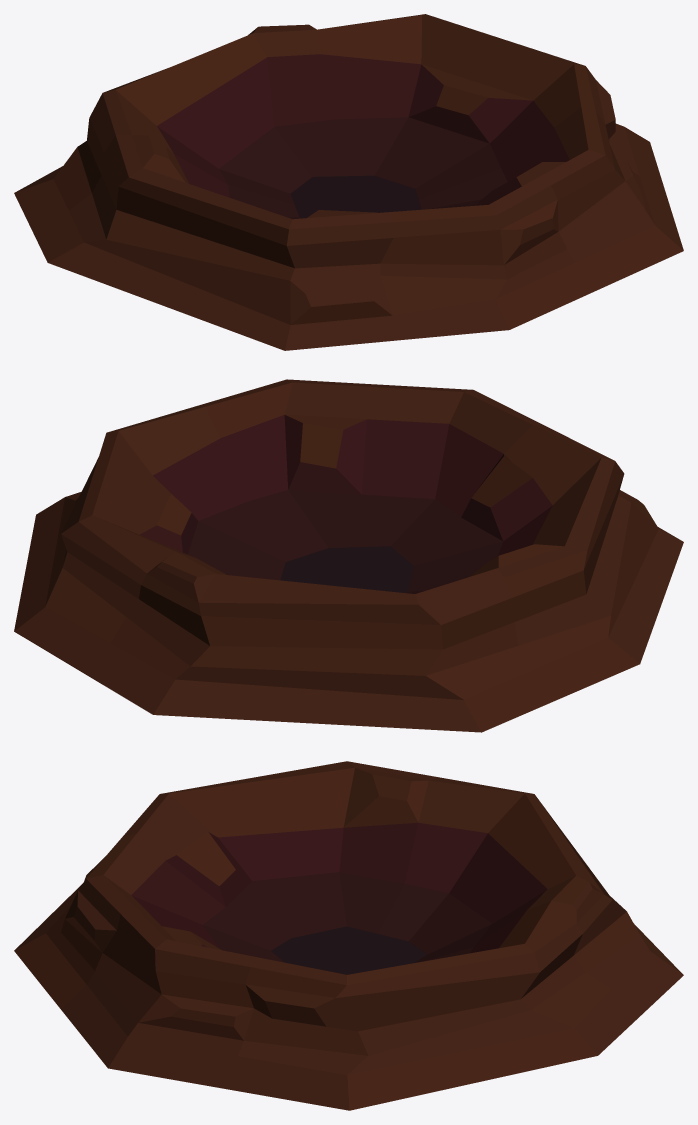
The model's file is SpawnPointDirtHole.fbx.
3 views of the same model, one above another, from view 1: azimuth 30°, elevation 25°; view 2: azimuth 150°, elevation 25°; view 3: azimuth 270°, elevation 25° (orthographic). The views are drawn at different scales.
Visible parts, largest first — view 1: Hole; view 2: Hole; view 3: Hole.
Boxes of the visible parts, bbox=[...] form: Hole: bbox=[14, 14, 683, 350]; Hole: bbox=[14, 379, 683, 732]; Hole: bbox=[14, 761, 683, 1110].
Size of the model in its own units: 180 by 29.05 by 177.
